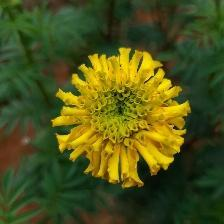marigold: (51, 46, 193, 191)
